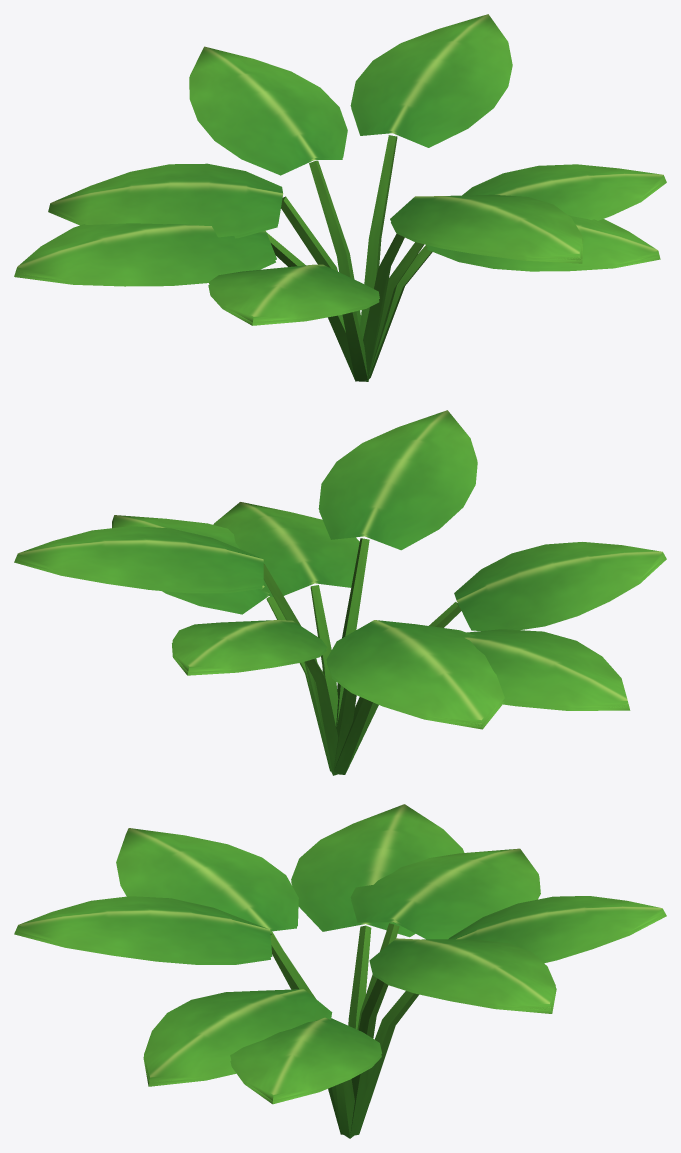
Rendered from Kit_BushB.obj.
3 views of the same model, one above another, from view 1: azimuth 30°, elevation 25°; view 2: azimuth 150°, elevation 25°; view 3: azimuth 270°, elevation 25° (orthographic). The views are drawn at different scales.
Parts seen in each view (by area): view 1: Kit_BushB; view 2: Kit_BushB; view 3: Kit_BushB.
Part boxes in pixels (x1=…): Kit_BushB: x1=14, y1=14, x2=666, y2=381; Kit_BushB: x1=14, y1=410, x2=666, y2=775; Kit_BushB: x1=14, y1=804, x2=666, y2=1138.
Size of the model in its own units: 9.98 by 3.99 by 9.47.
Materials: 1 (1 with a texture image).
